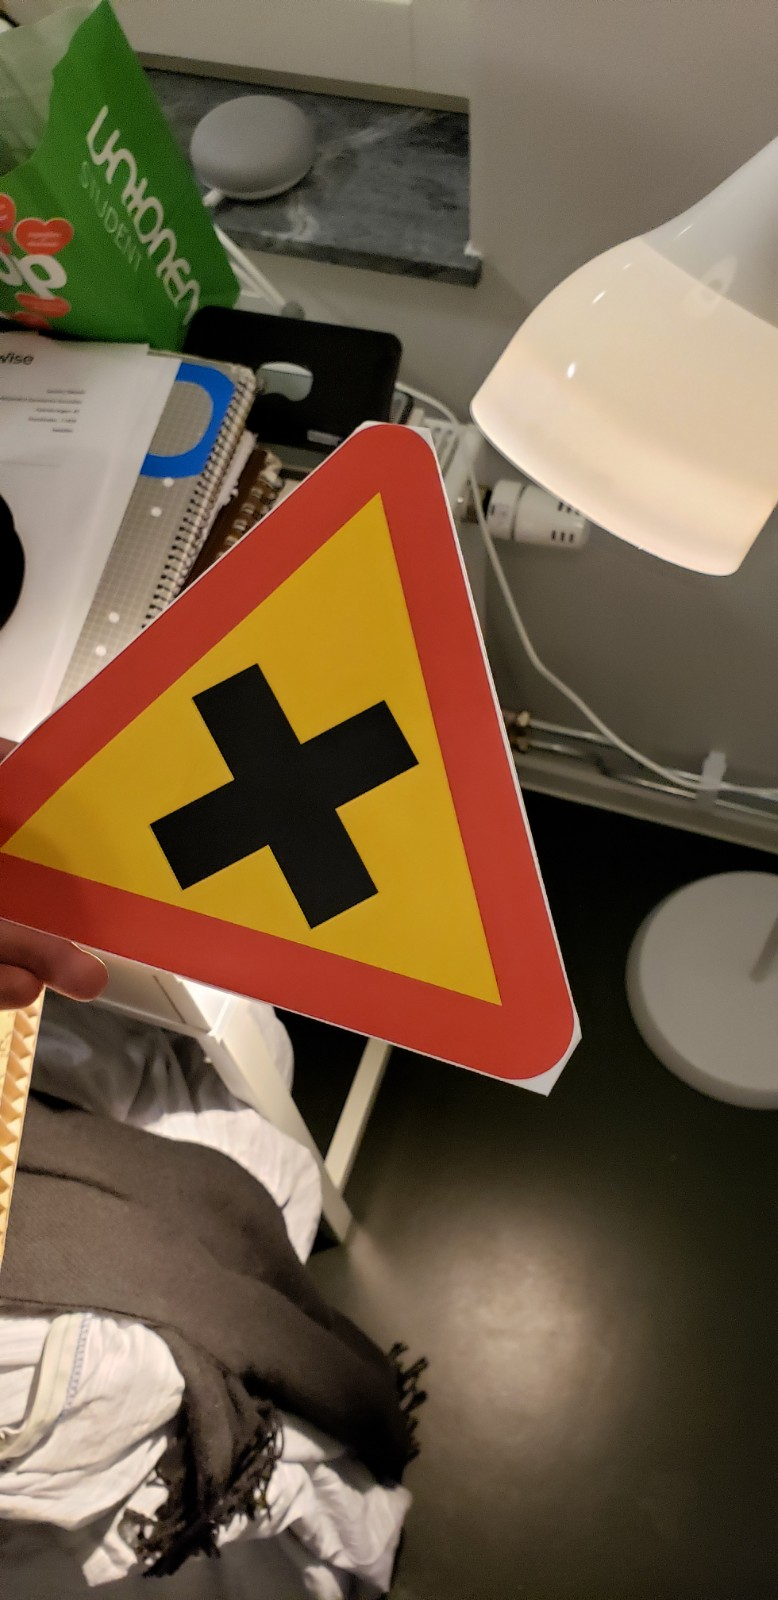junction: (16, 324, 579, 1104)
